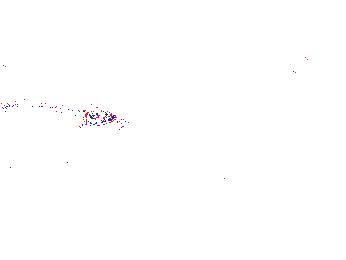glassfish: (1, 96, 119, 130)
red belly glassfish: (287, 65, 322, 80), (298, 50, 310, 65), (320, 98, 330, 114)
redtail glassfish: (196, 66, 212, 82)
